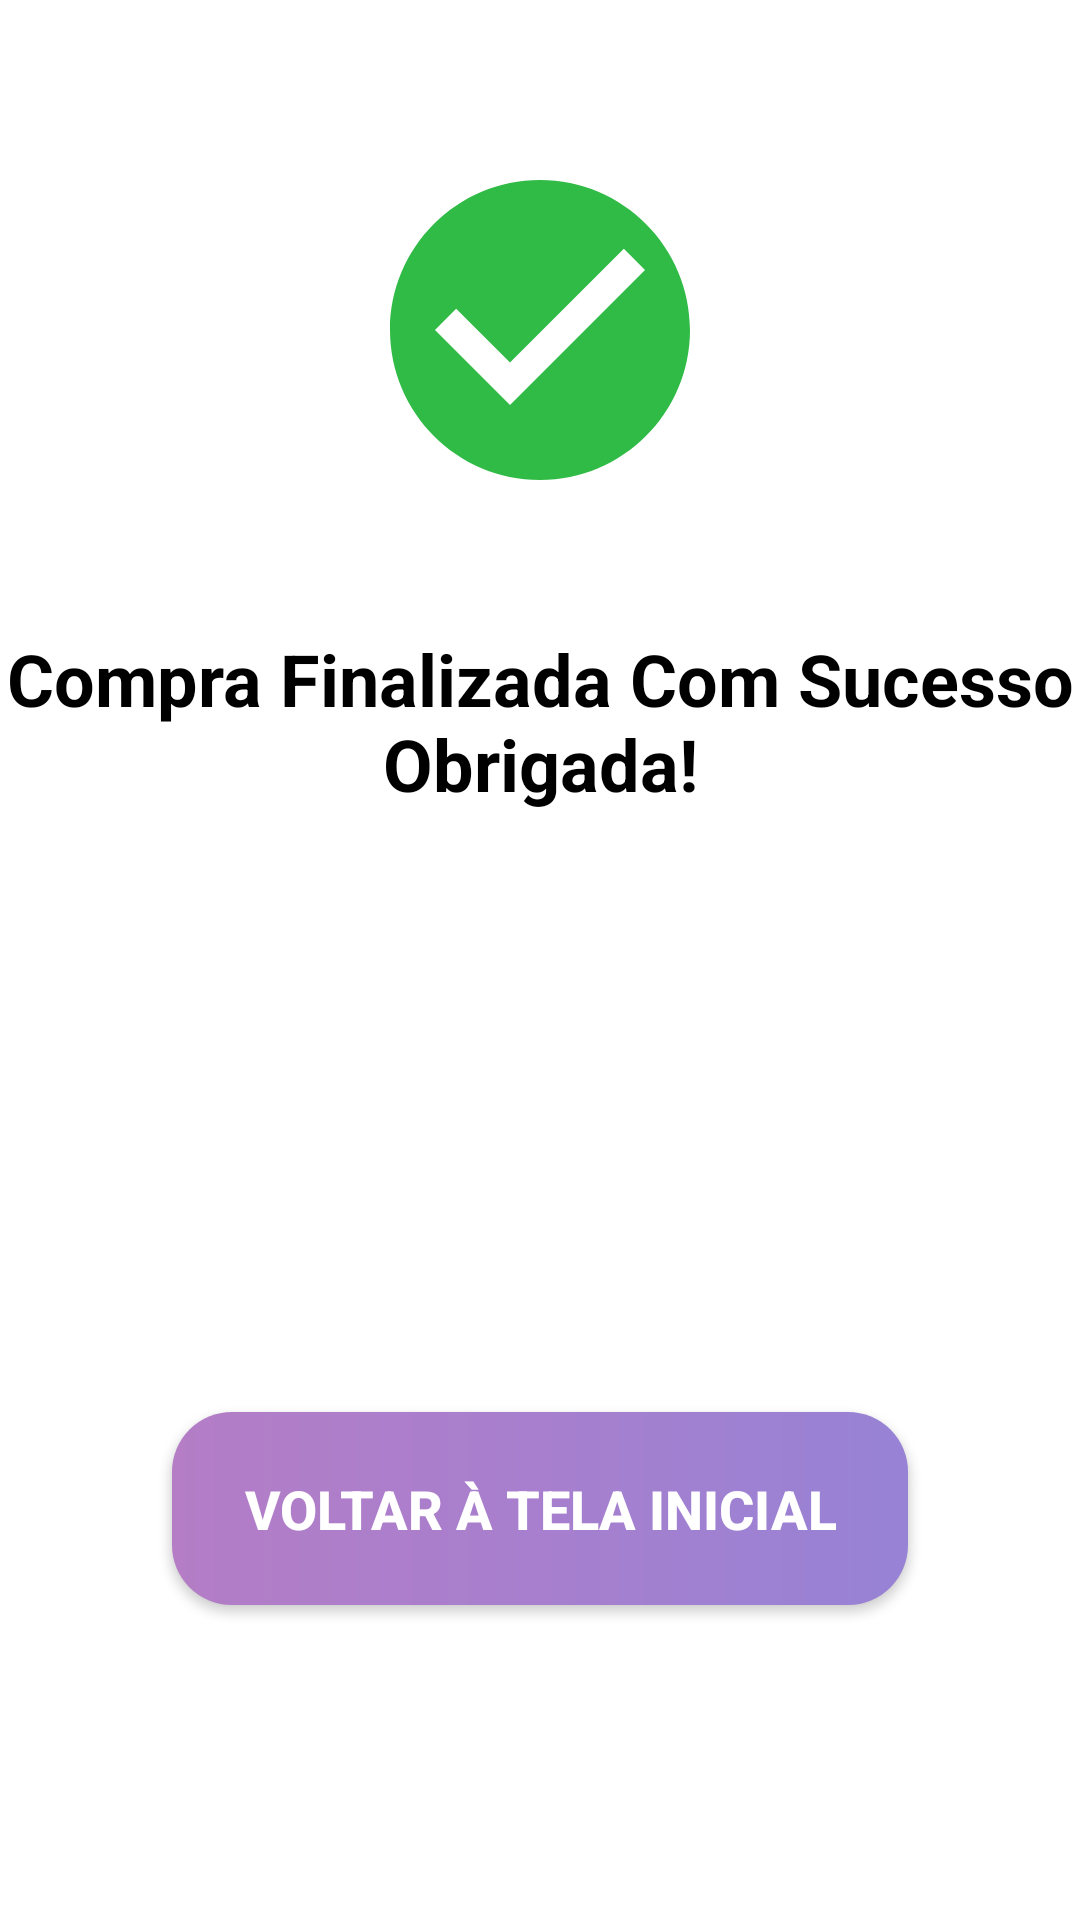

Icon click points for this 1080×1920 phone screenshot, format [x,y]:
check circle: [540,330]
